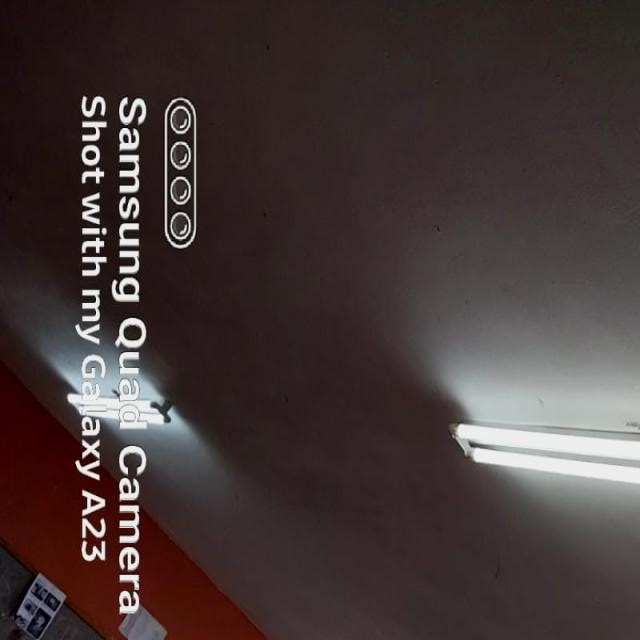fluorescent tube: (412, 391, 640, 554)
